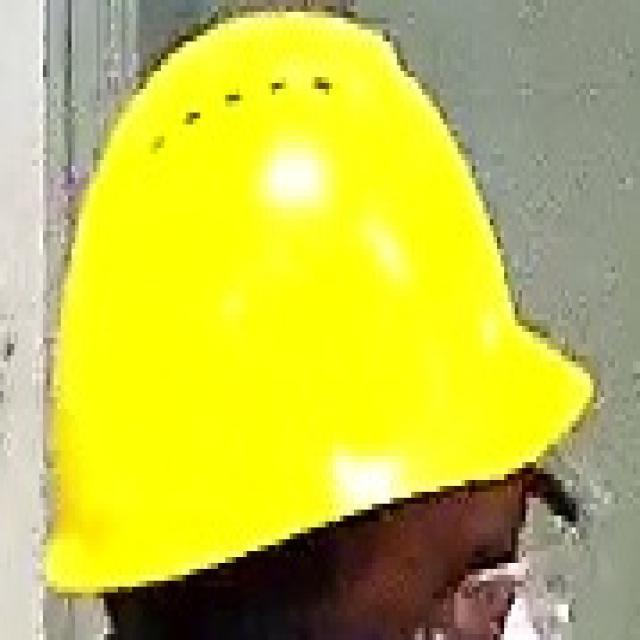yellow helmet: (41, 6, 591, 604)
